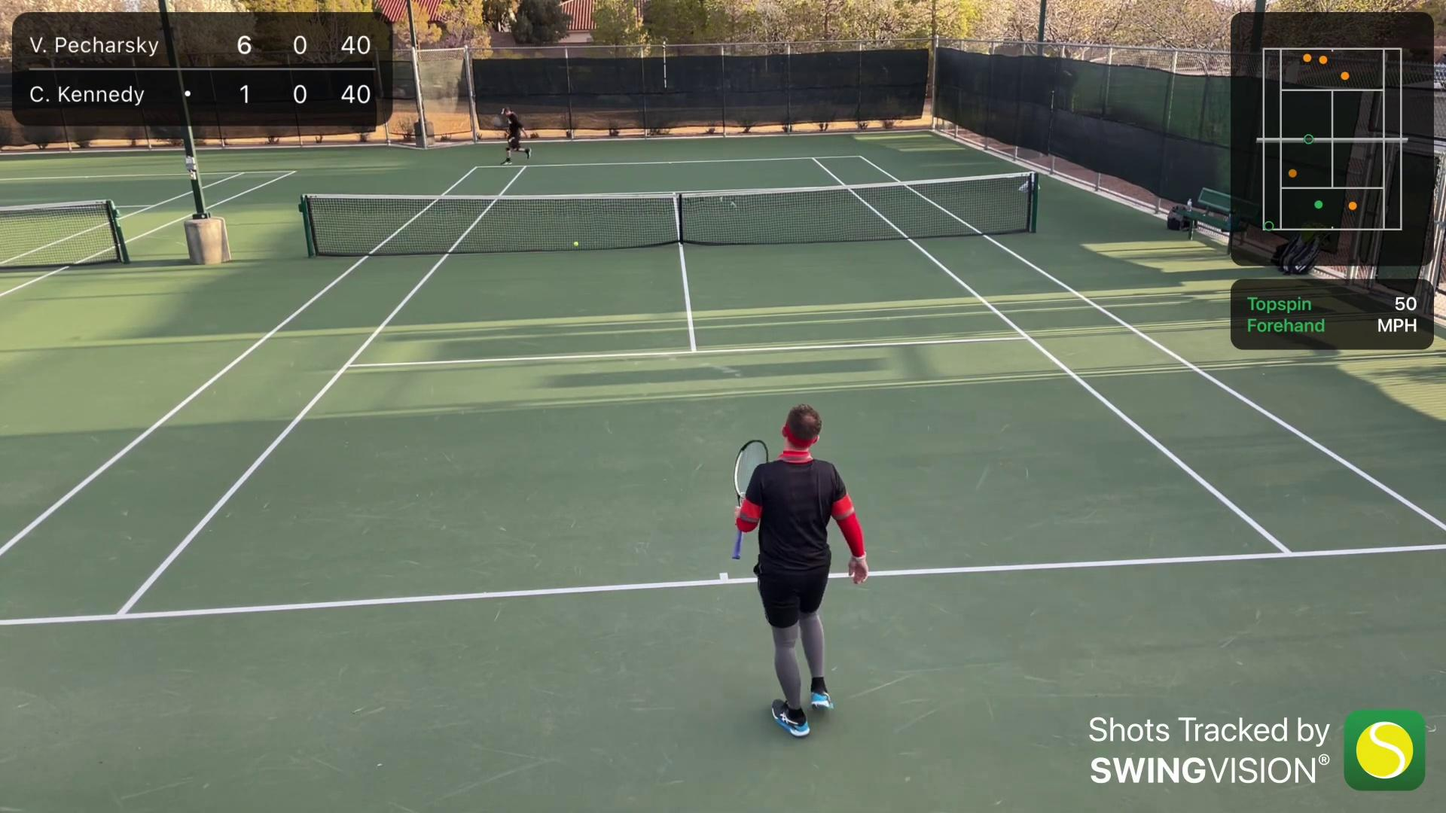ball: (574, 240, 580, 247)
